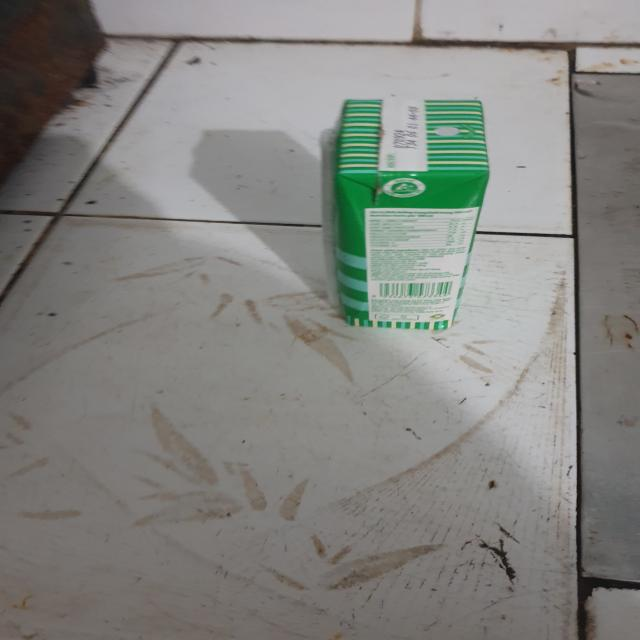Vina: (329, 100, 487, 335)
